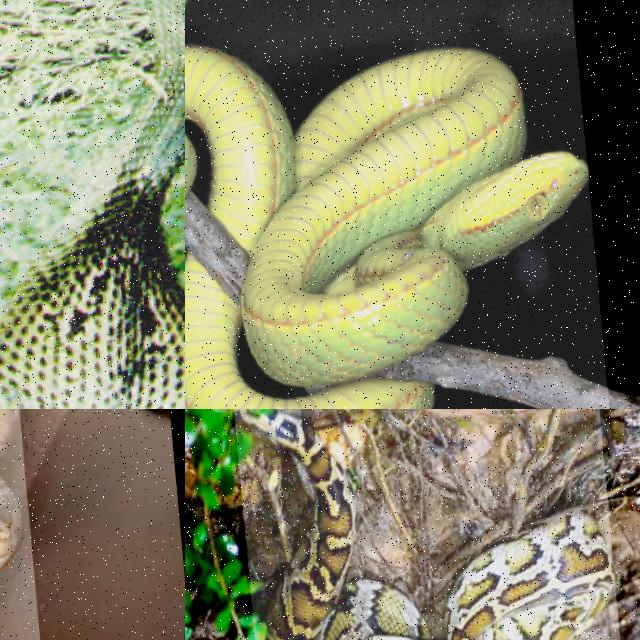Naja siamensis: (0, 0, 184, 408)
Python bivittatus: (236, 409, 427, 639), (0, 480, 19, 564)
Trimeresurus: (185, 47, 588, 408)
snake: (185, 47, 588, 408), (0, 0, 184, 408), (236, 409, 427, 639), (0, 480, 19, 564)
